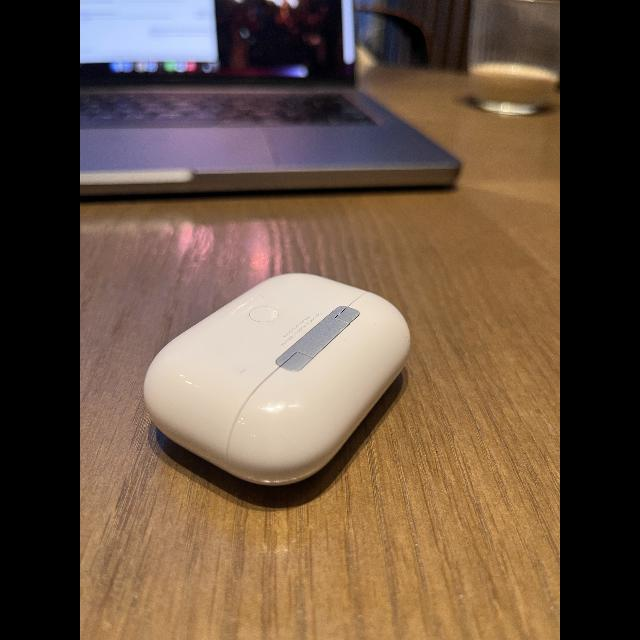AirPods Pro: (138, 266, 414, 506)
